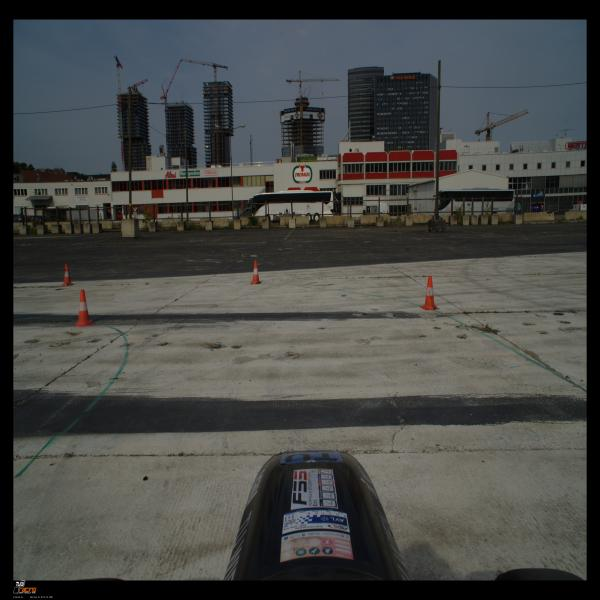orange_cone: (73, 289, 95, 327), (420, 276, 439, 310), (61, 264, 74, 286), (250, 260, 261, 285)
